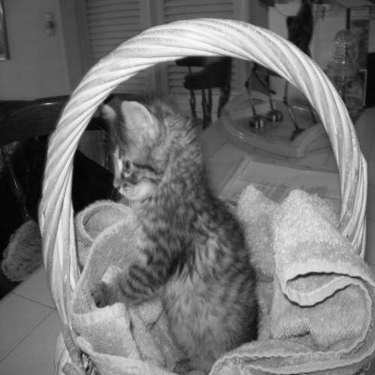cat: (49, 94, 262, 366)
